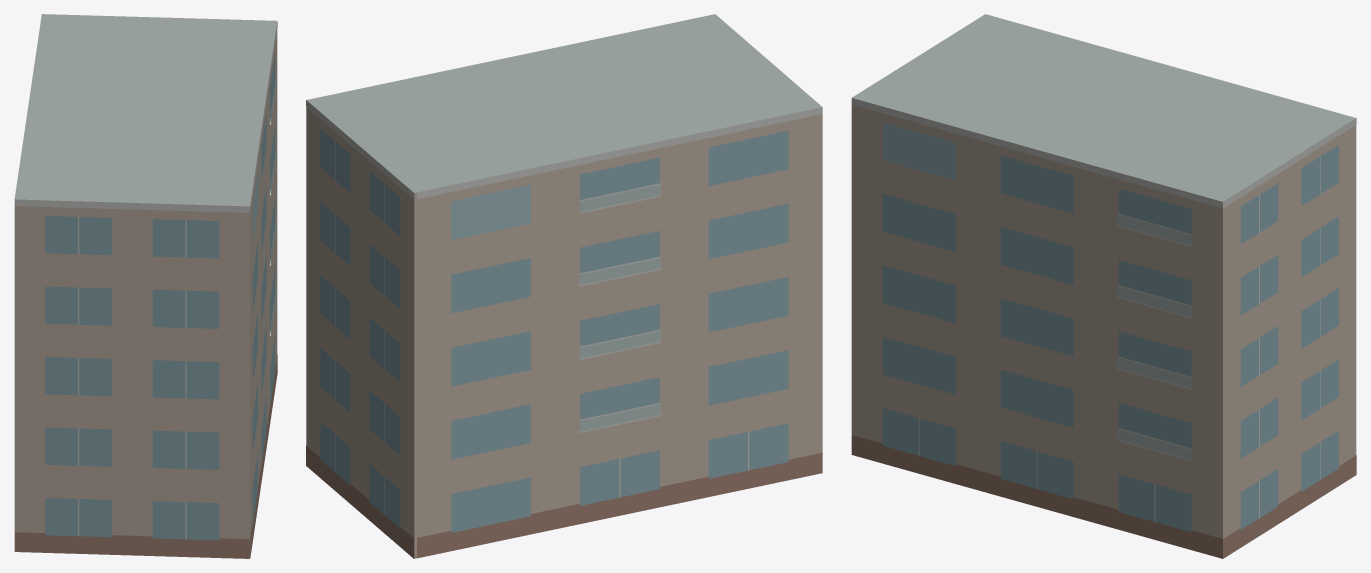
Rendered from survey-upis-32659266.glb.
3 renders of one model, left to right at view 1: azimuth 30°, elevation 25°; view 2: azimuth 150°, elevation 25°; view 3: azimuth 270°, elevation 25°, orthographic. The views are drawn at different scales.
Parts seen in each view (by area): view 1: survey-upis-32659266.tmp; view 2: survey-upis-32659266.tmp; view 3: survey-upis-32659266.tmp.
Part boxes in pixels (<box>): survey-upis-32659266.tmp: <box>14,14,277,558</box>; survey-upis-32659266.tmp: <box>306,14,822,558</box>; survey-upis-32659266.tmp: <box>851,14,1356,558</box>.
Size of the model in its own units: 14.77 by 13.07 by 16.77.
